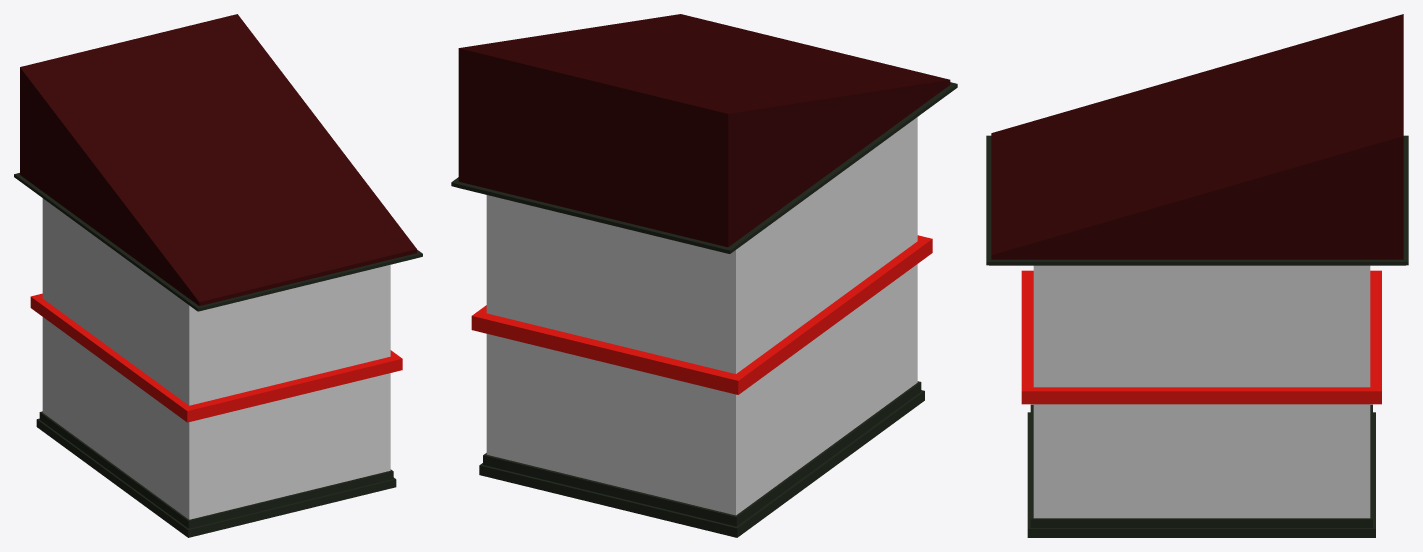
File: Edificio1_x1 (1).FBX
The picture shows the model from 3 angles, left to right: view 1: azimuth 30°, elevation 25°; view 2: azimuth 150°, elevation 25°; view 3: azimuth 270°, elevation 25°; orthographic projection. The views are drawn at different scales.
Parts seen in each view (by area): view 1: Edificio1_x1; view 2: Edificio1_x1; view 3: Edificio1_x1.
Boxes of the visible parts, x1,y1,x2,y2 form: Edificio1_x1: (14, 14, 422, 537); Edificio1_x1: (451, 14, 957, 537); Edificio1_x1: (986, 14, 1408, 537).
Bounding box in the file's own units: 399 × 597 × 564.
